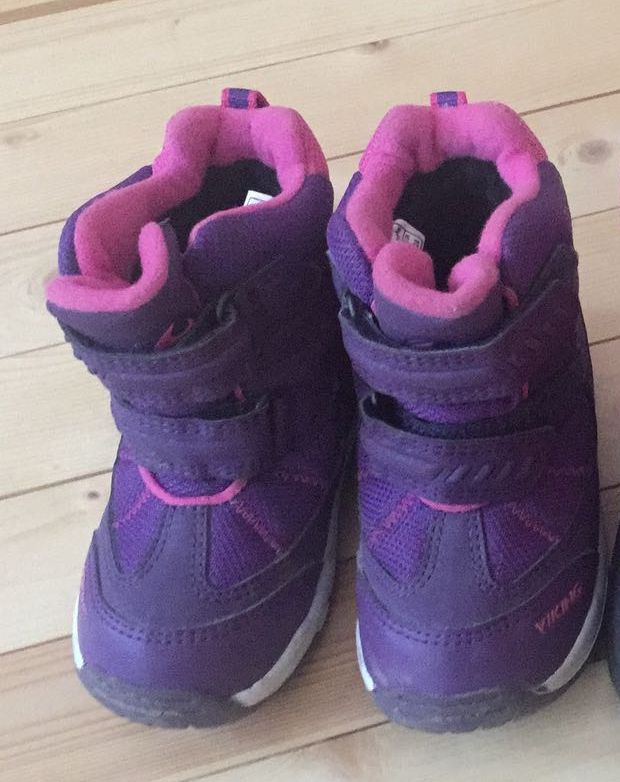clothes: (26, 81, 333, 731), (333, 88, 605, 736)
